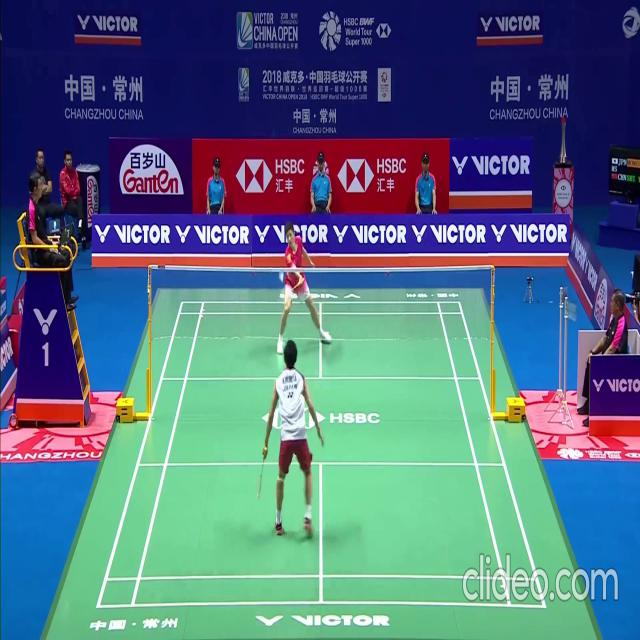Shuttlecock: (279, 273, 284, 280)
